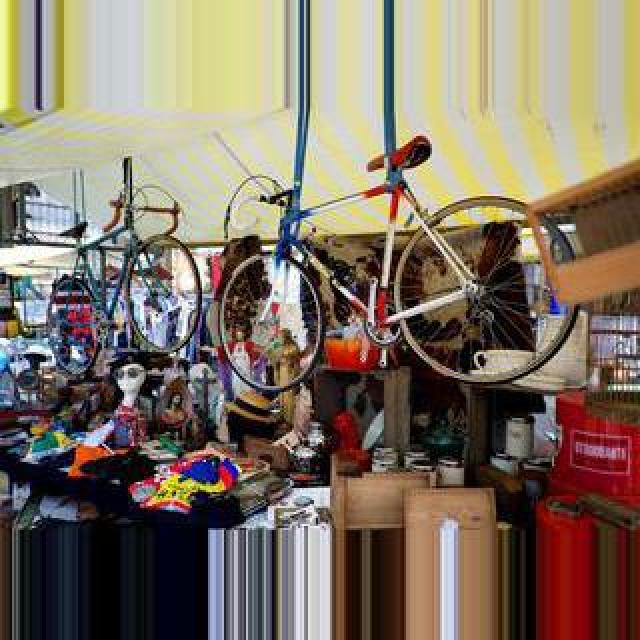Person: (213, 130, 571, 408), (6, 157, 204, 377)
